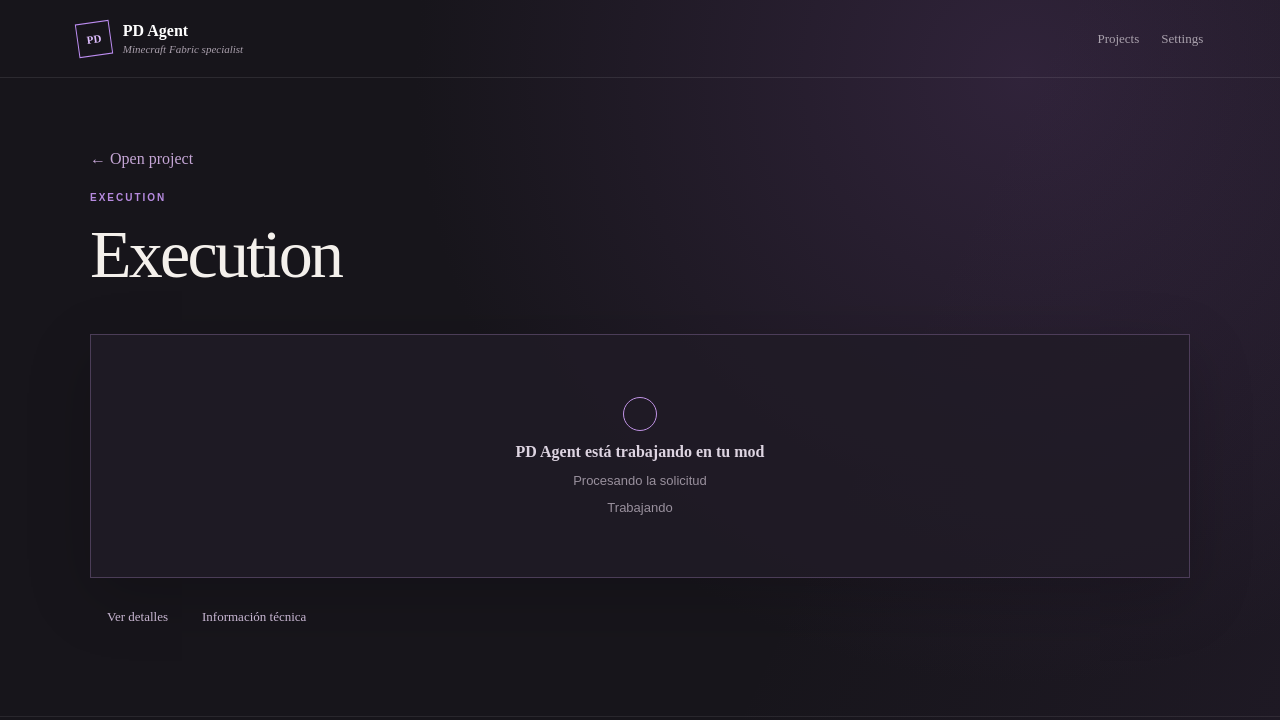
frontend route and state foundations › closes details with Escape
This screenshot has width=1280, height=720.
Click the button "Ver detalles" at (138,617), box top-left (90, 598), bottom-right (185, 636)
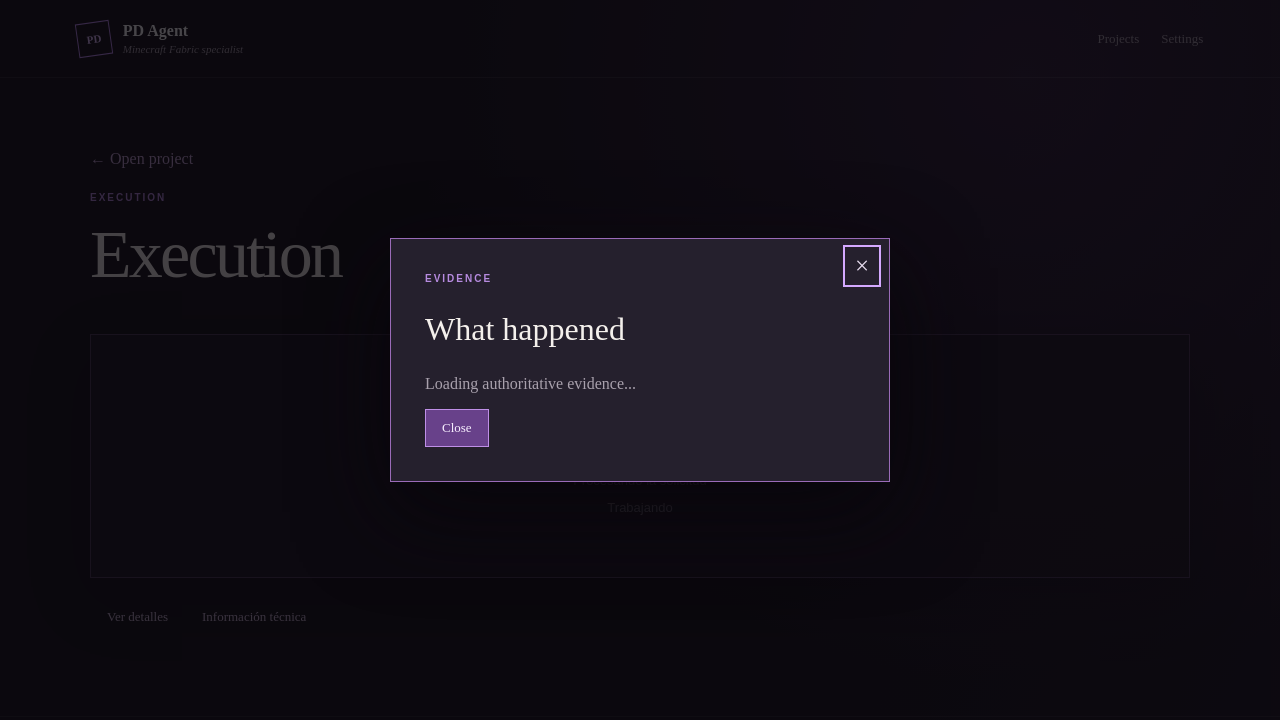
Press Escape
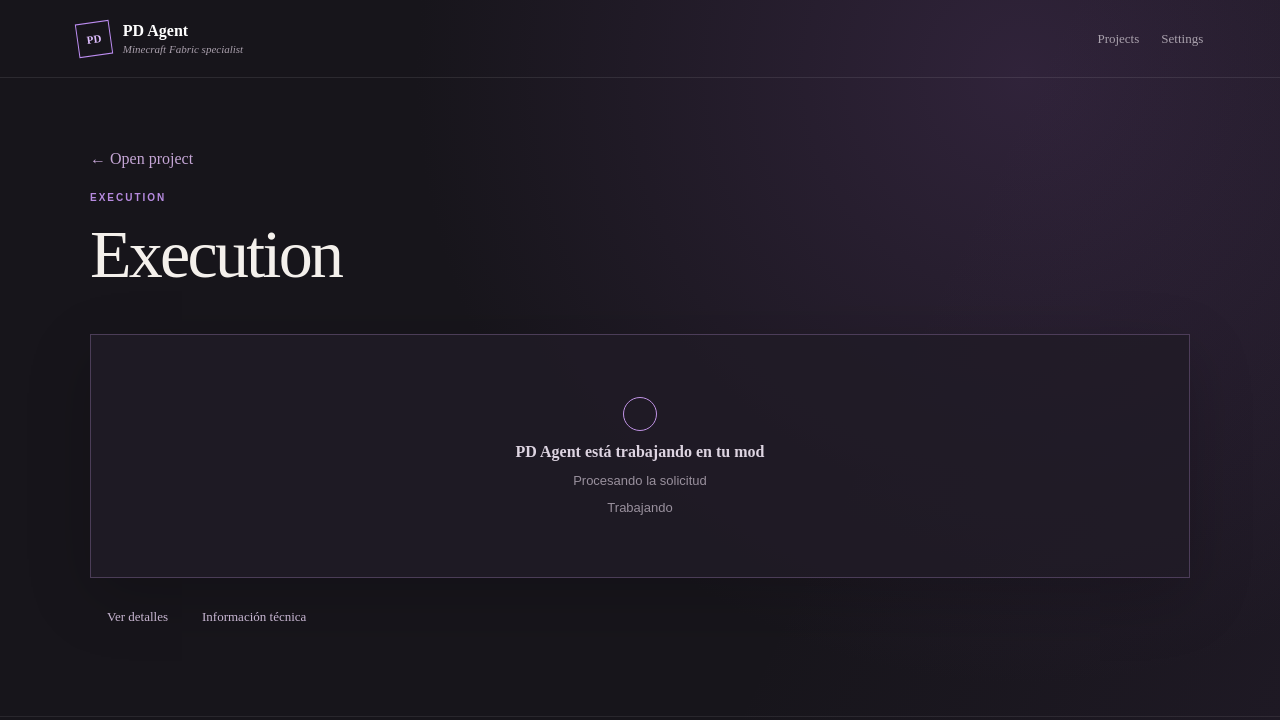
Check: the dialog is gone
